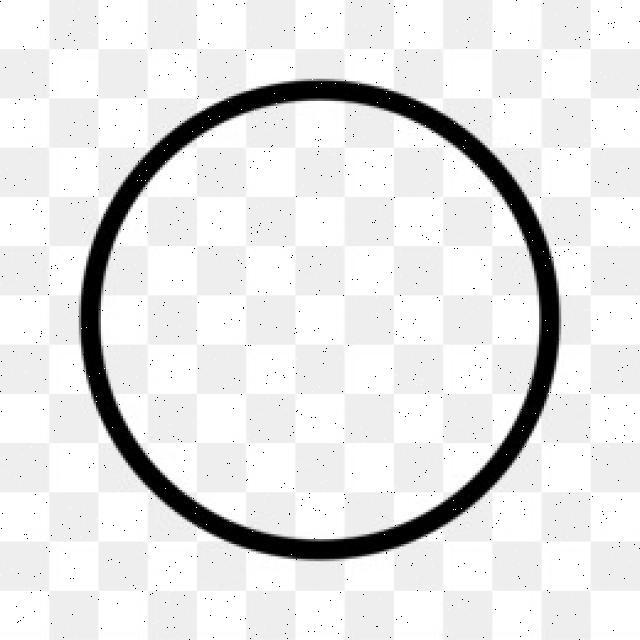Circle: (73, 75, 564, 570)
